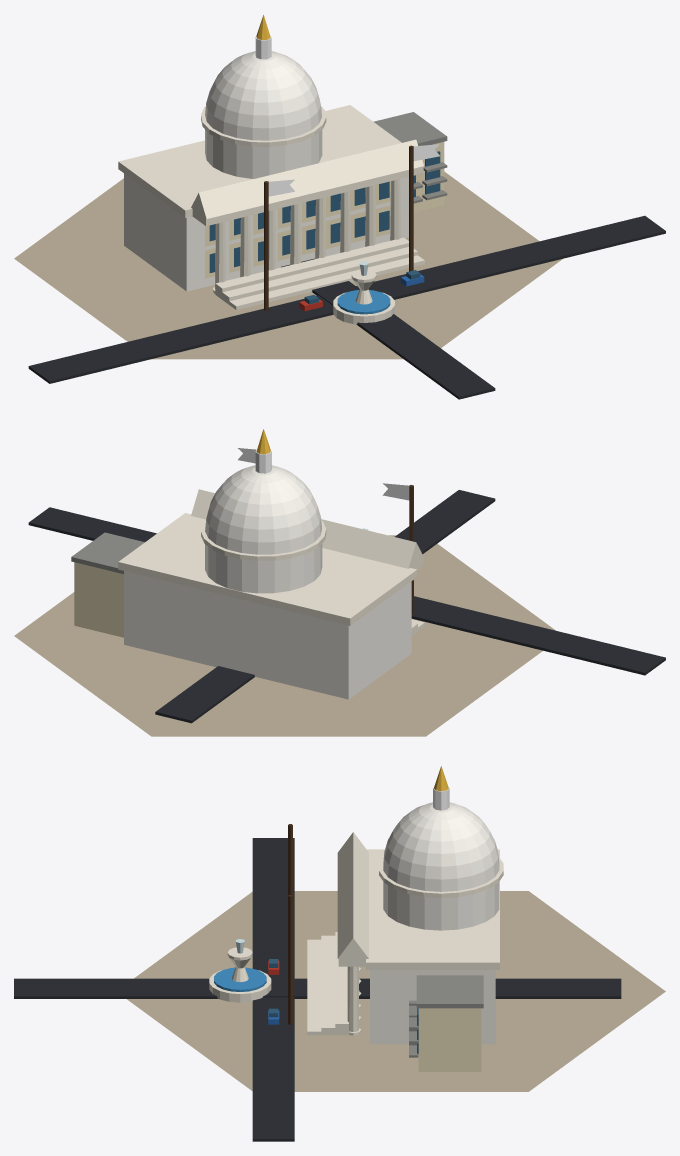
Rendered from capital_3_1.fbx.
3 renders of one model, top to bottom at view 1: azimuth 30°, elevation 25°; view 2: azimuth 150°, elevation 25°; view 3: azimuth 270°, elevation 25°, orthographic.
Visible parts, largest first — view 1: capital_3_1; view 2: capital_3_1; view 3: capital_3_1.
Part boxes in pixels (x1,y1,x2,y2): capital_3_1: (14,15,665,399); capital_3_1: (14,429,665,736); capital_3_1: (14,766,665,1141).
Size of the model in its own units: 272 by 95.28 by 249.
